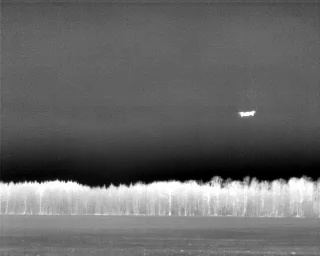DRONE: (235, 105, 259, 122)
